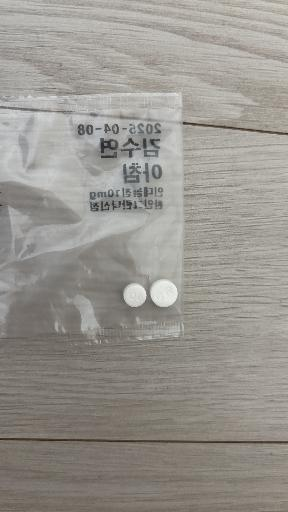Grandaxin: (150, 280, 177, 307)
Indenol: (123, 283, 146, 307)
vinyl: (0, 93, 184, 344)
